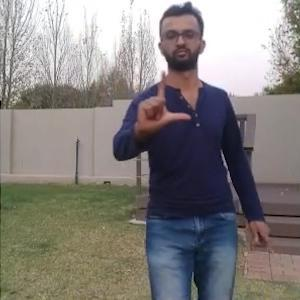land_hand: (129, 67, 192, 132)
